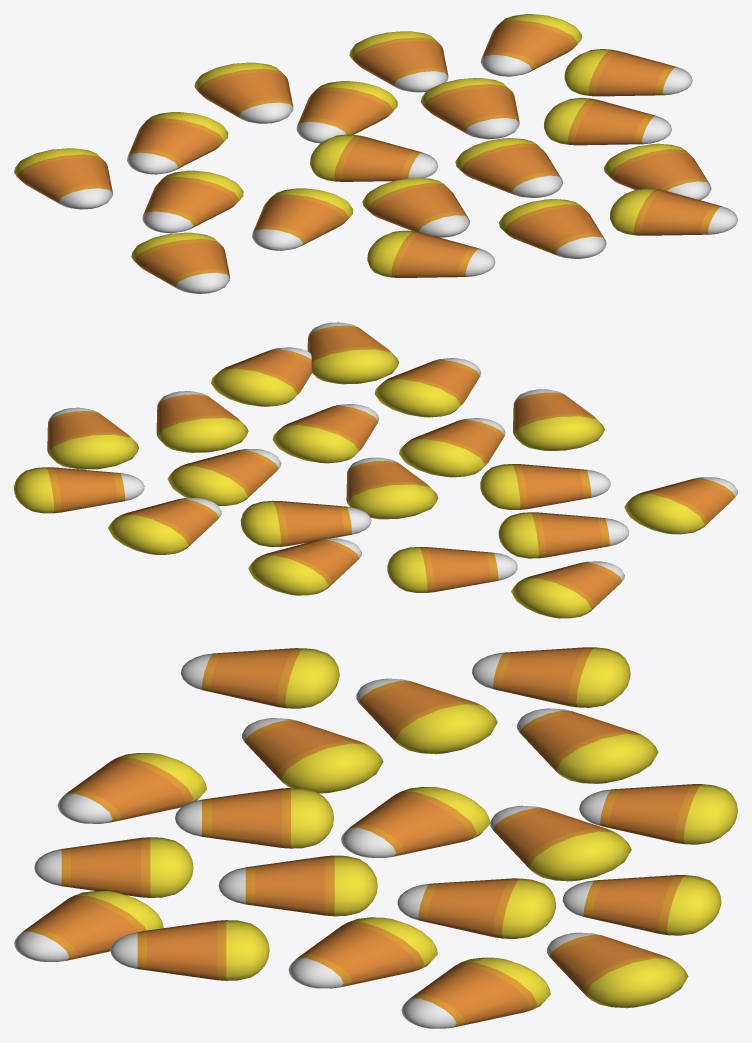
Rendered from candy_corn_from_poly_by_google.glb.
The picture shows the model from 3 angles, top to bottom: view 1: azimuth 30°, elevation 25°; view 2: azimuth 150°, elevation 25°; view 3: azimuth 270°, elevation 25°; orthographic projection. The views are drawn at different scales.
Visible parts, largest first — view 1: Object_7, Object_4, Object_6, Object_5; view 2: Object_4, Object_7, Object_5, Object_6; view 3: Object_7, Object_4, Object_5, Object_6.
Part boxes in pixels (x1,y1,x2,y2): Object_7: [20, 23, 714, 286]; Object_4: [14, 14, 685, 277]; Object_6: [58, 54, 737, 293]; Object_5: [17, 20, 721, 289]; Object_4: [14, 349, 704, 618]; Object_7: [47, 328, 732, 608]; Object_5: [46, 325, 735, 613]; Object_6: [48, 322, 737, 580]; Object_7: [28, 647, 693, 1025]; Object_4: [74, 647, 737, 1009]; Object_5: [23, 647, 702, 1027]; Object_6: [14, 652, 611, 1028].
Bounding box in the file's own units: 65.16 × 2.77 × 53.38.
